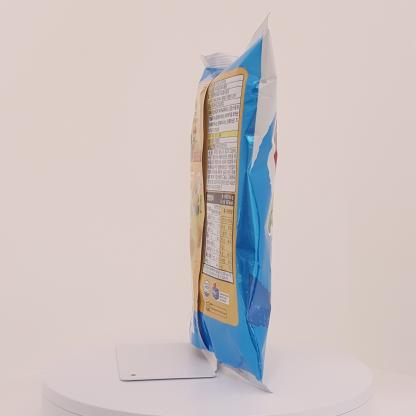Plastic Packaging: (174, 10, 302, 398)
